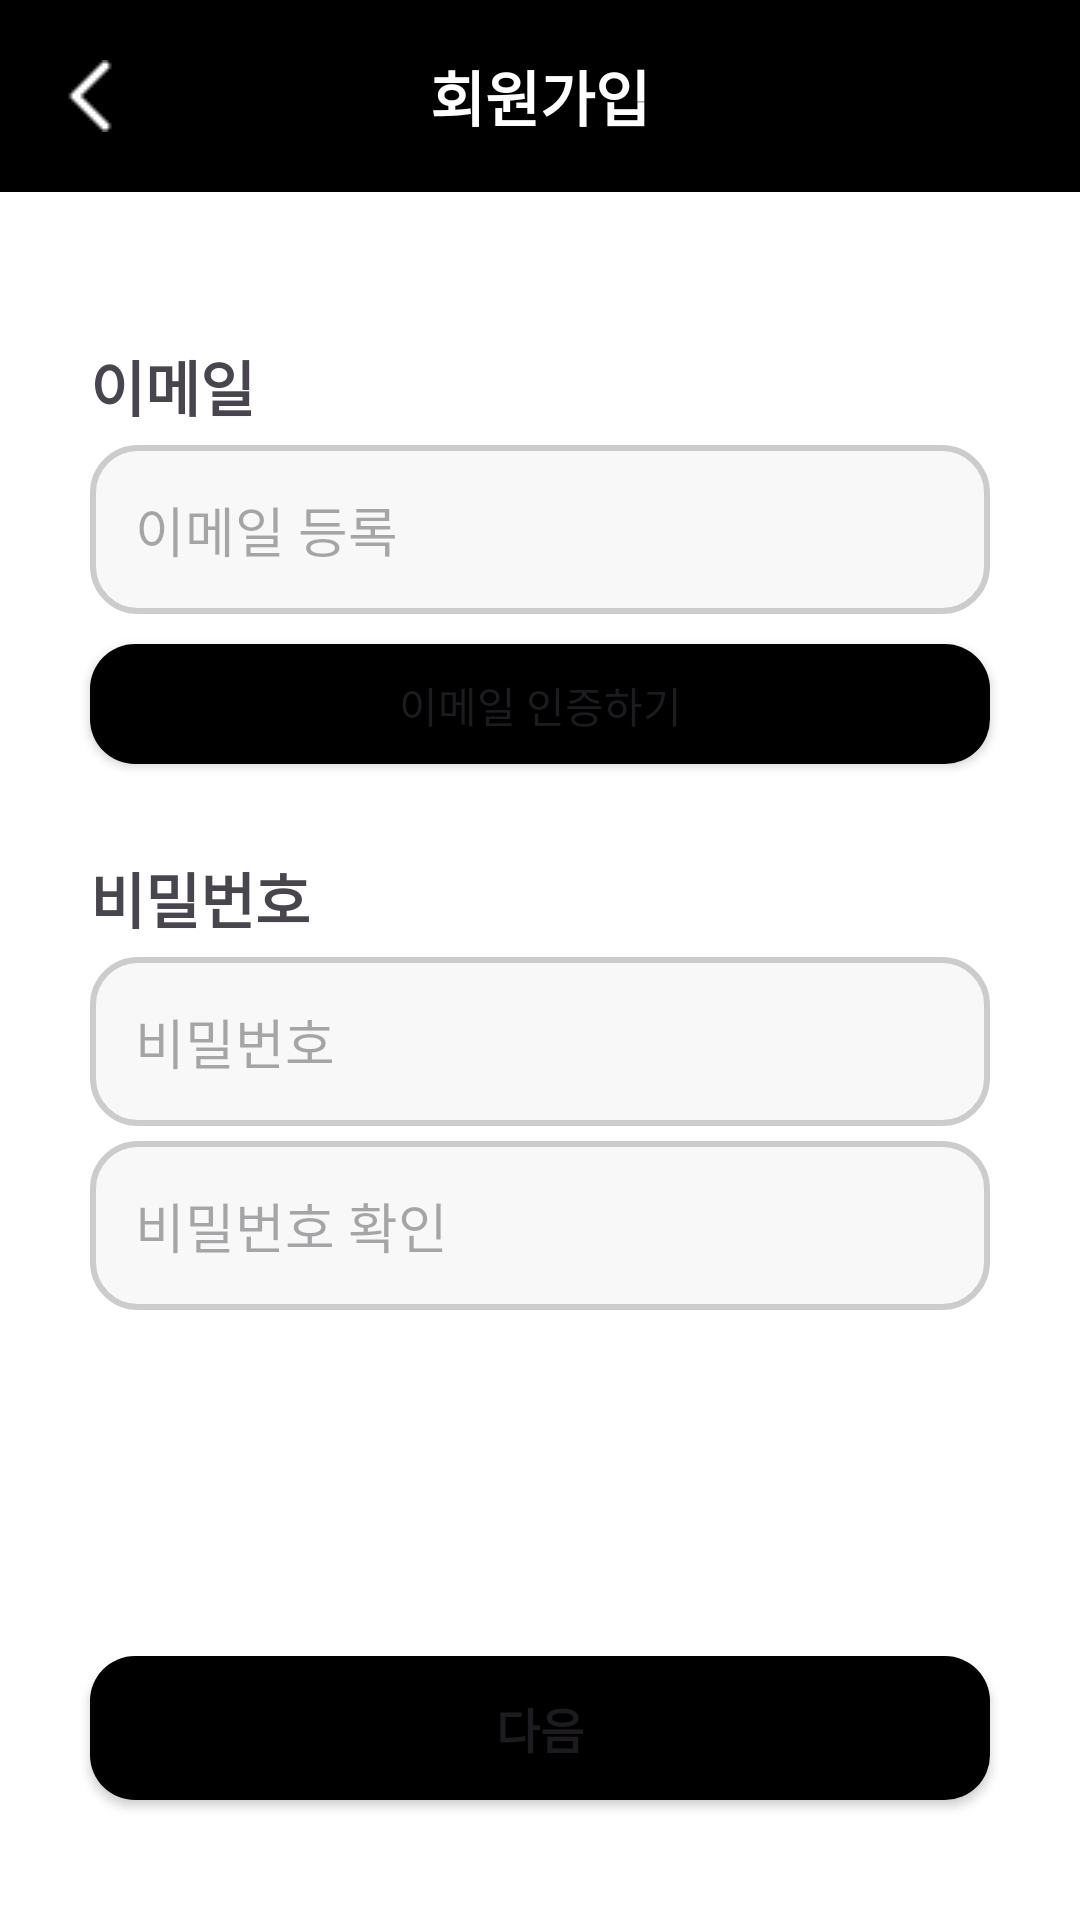

Locate icon controls on the screen. Image size 1080*1920, boxes as [left=x1, top=y1, right=x2, bottom=y2].
back: [left=68, top=60, right=112, bottom=132]
